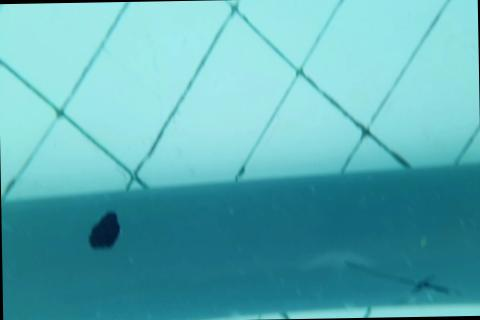kebocoran: (87, 209, 120, 252)
keretakan: (343, 257, 462, 305)
